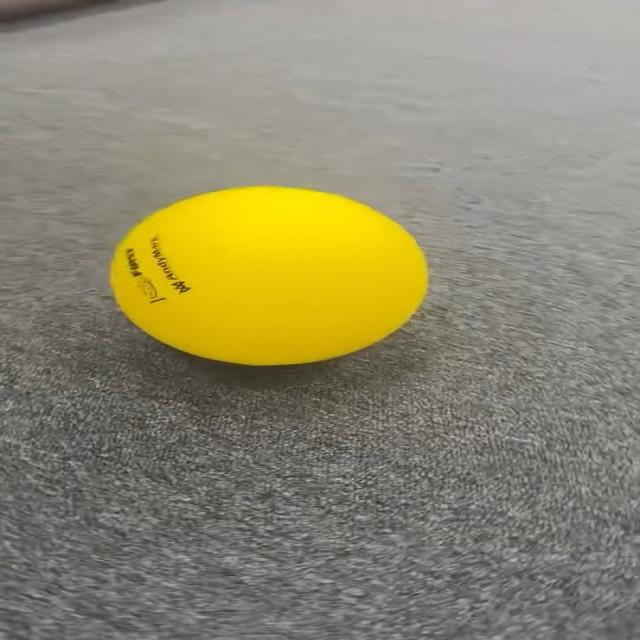Fuels: (111, 187, 423, 362)
